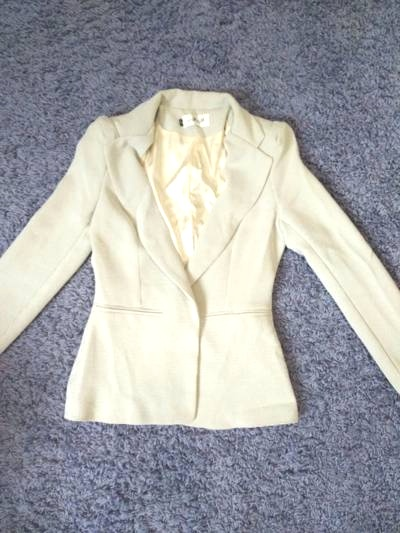Blazer: (5, 80, 396, 448)
